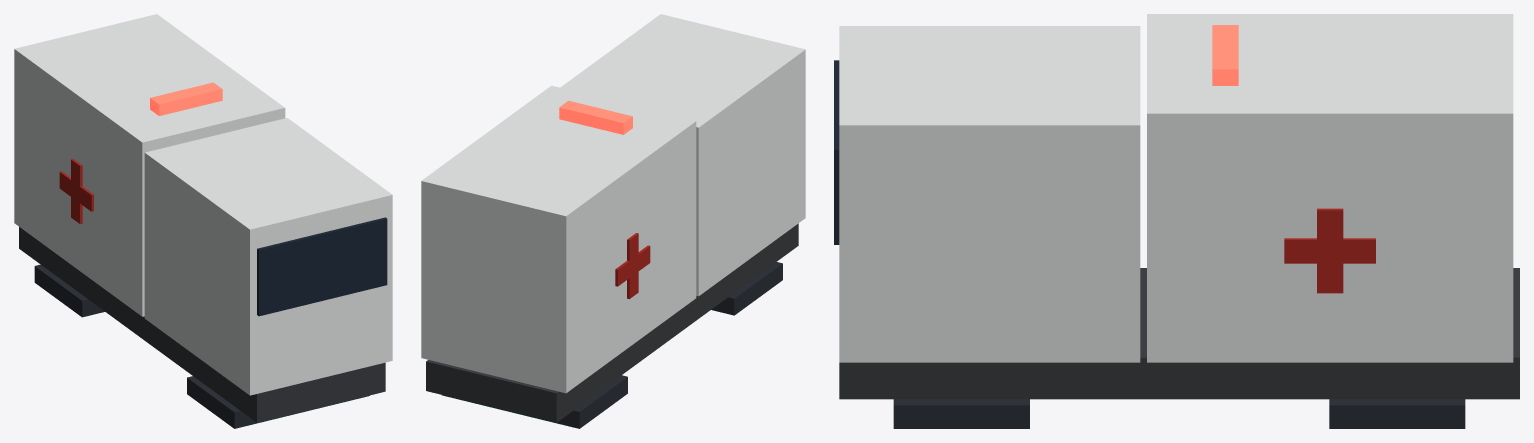
The model's file is veh_ground_ambulance_a10_lod2.glb.
3 views of the same model, side by side, from view 1: azimuth 30°, elevation 25°; view 2: azimuth 150°, elevation 25°; view 3: azimuth 270°, elevation 25° (orthographic). The views are drawn at different scales.
Parts seen in each view (by area): view 1: body; view 2: body; view 3: body.
Part boxes in pixels (x1,y1,x2,y2): body: [14, 14, 392, 428]; body: [421, 14, 805, 428]; body: [834, 14, 1519, 428].
Bounding box in the file's own units: 1.87 × 2.88 × 5.24.
